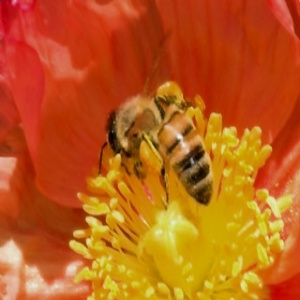bee: (98, 26, 217, 214)
